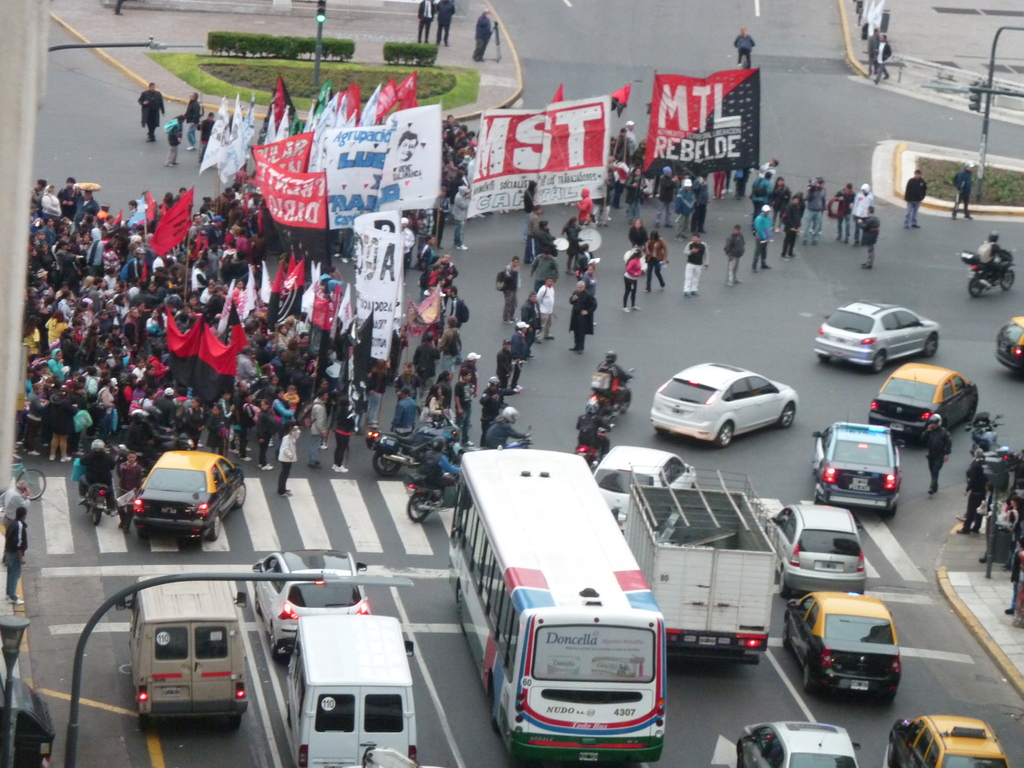Car: (246, 551, 370, 664), (784, 595, 903, 705), (652, 360, 800, 446), (131, 452, 247, 542), (595, 443, 696, 543), (869, 359, 976, 448), (813, 300, 945, 368), (775, 501, 870, 595), (810, 419, 896, 516), (888, 716, 1005, 767), (736, 723, 860, 767), (995, 315, 1023, 381)
